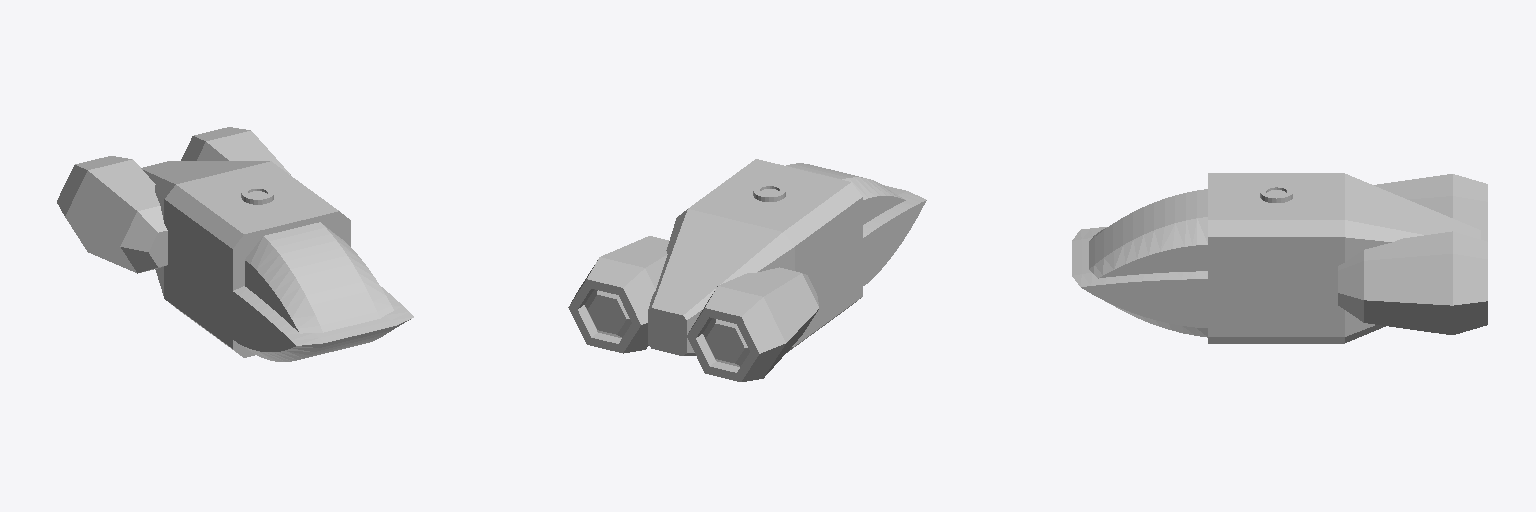
File: BGFreighterZ1.obj
3 renders of one model, left to right at view 1: azimuth 30°, elevation 25°; view 2: azimuth 150°, elevation 25°; view 3: azimuth 270°, elevation 25°, orthographic.
Bounding box in the file's own units: 1.77 × 1.04 × 3.05.